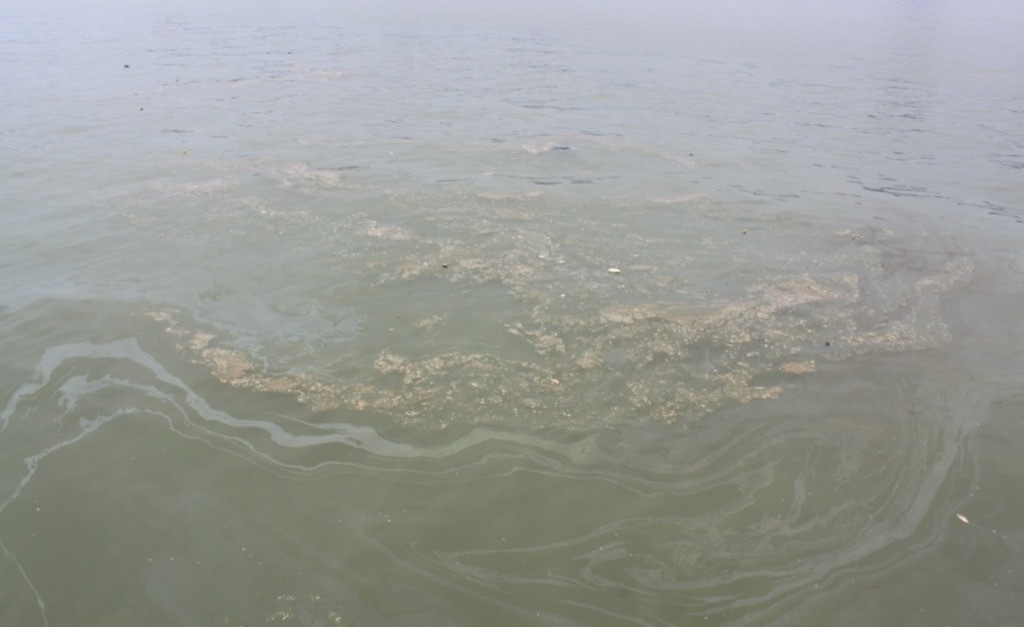organic: (683, 144, 701, 162), (821, 335, 837, 352), (119, 57, 136, 72), (128, 87, 146, 100), (138, 100, 151, 116), (281, 44, 294, 57)
plastic: (600, 253, 633, 289), (430, 249, 459, 281)
